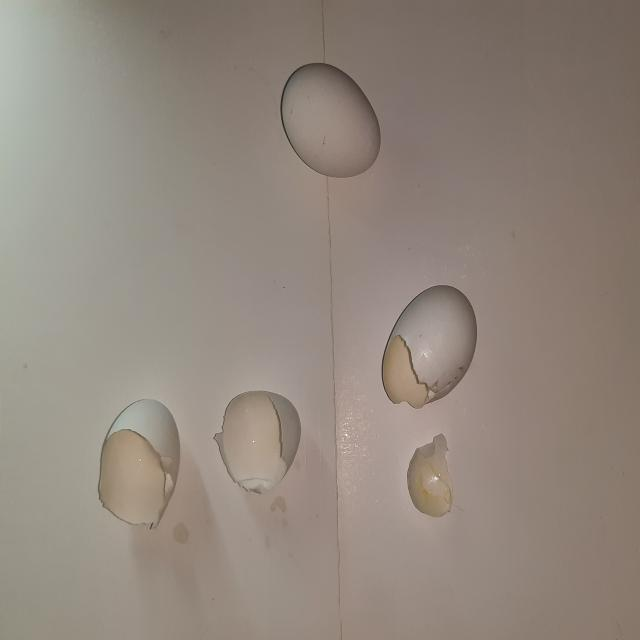egg shell: (276, 55, 386, 184), (94, 388, 186, 542), (378, 282, 480, 413), (209, 384, 309, 502), (406, 432, 456, 518)
